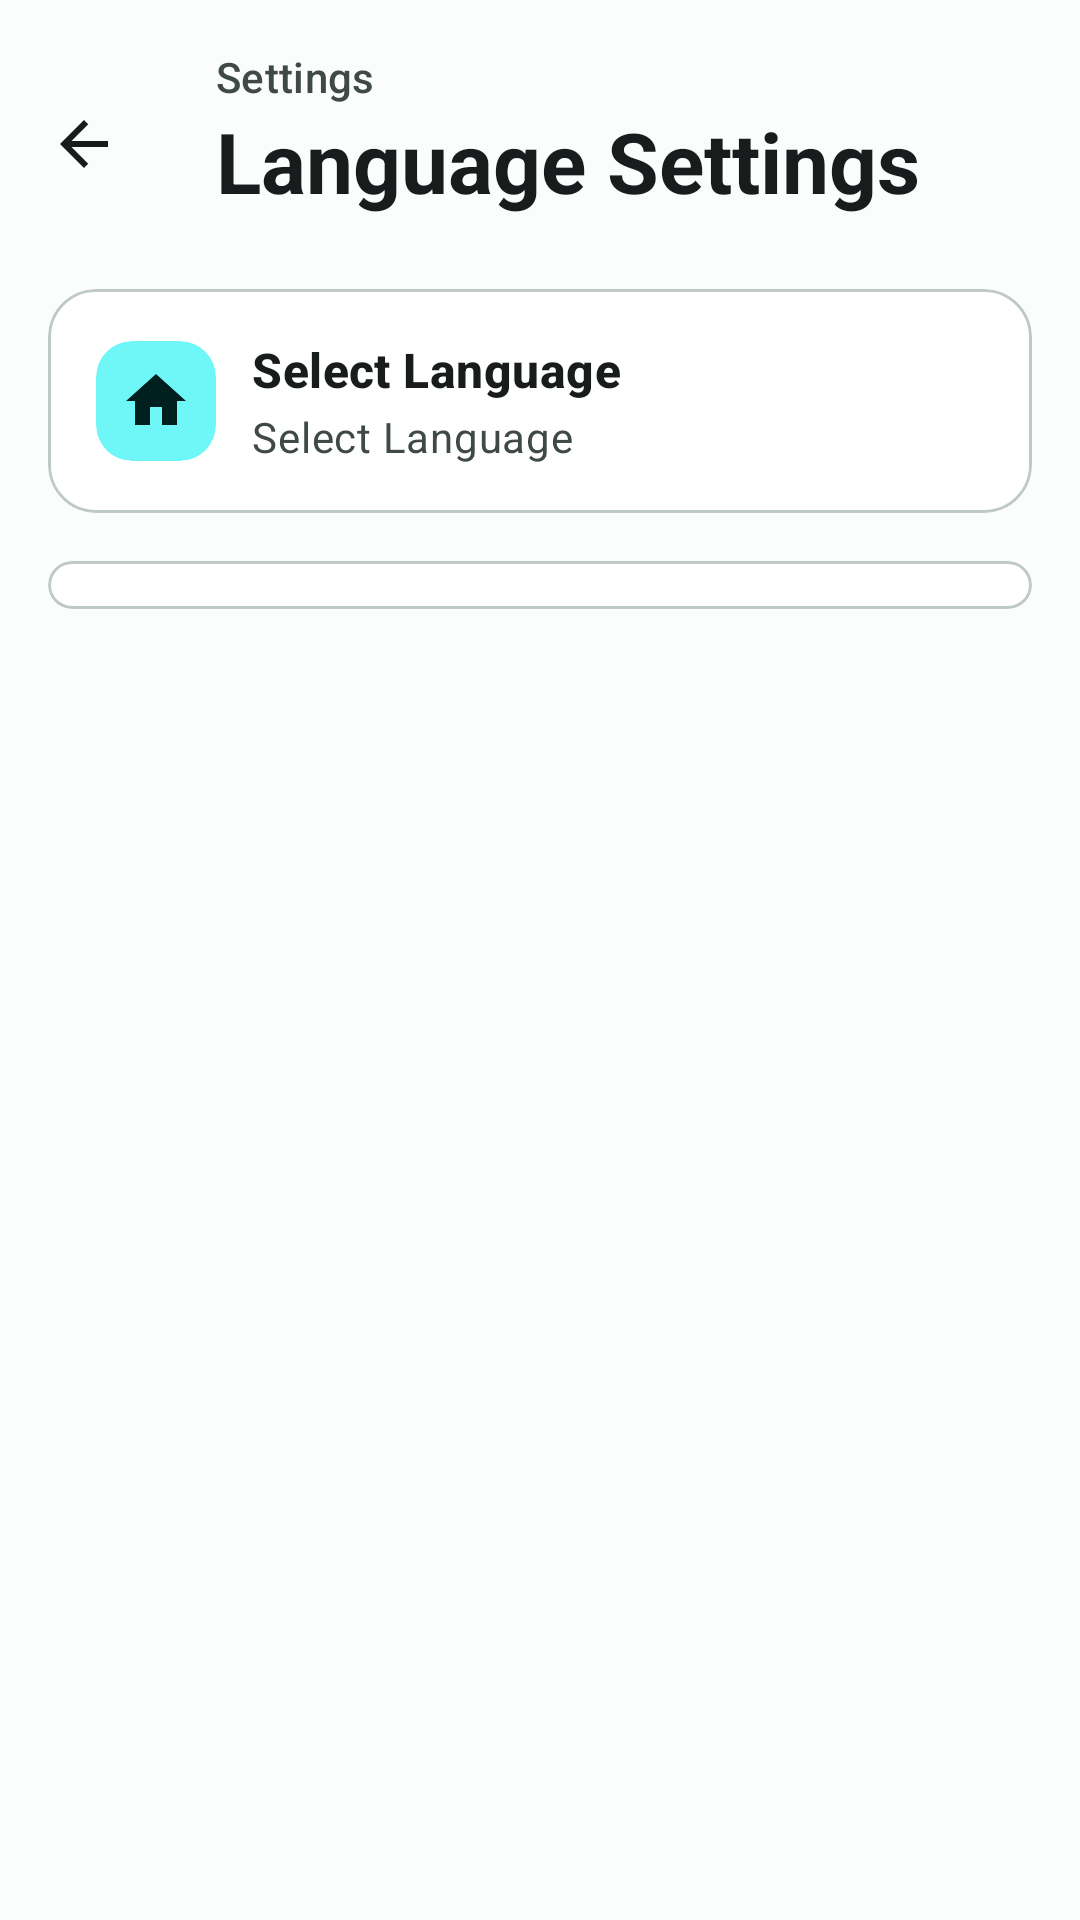

Screen size 1080px x 1920px. Icon name, then its center in pixels as point (x, y):
home: point (156, 399)
